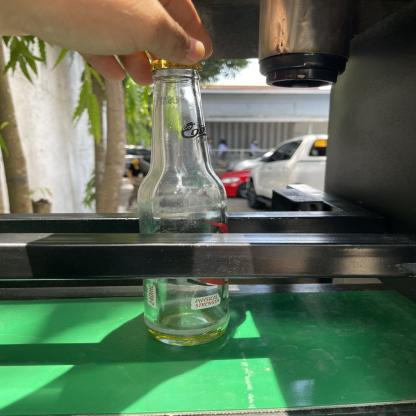Can: (136, 54, 232, 350)
